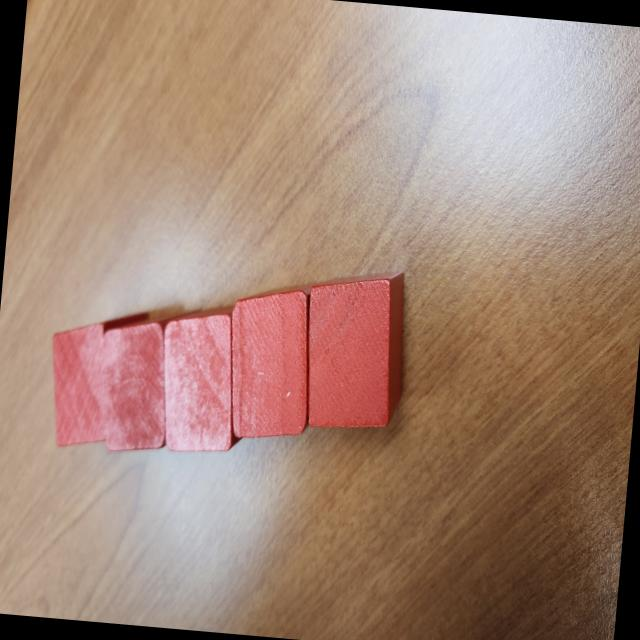red: (296, 264, 414, 434), (220, 276, 322, 447), (93, 302, 201, 459), (42, 303, 150, 453), (152, 298, 249, 459)
